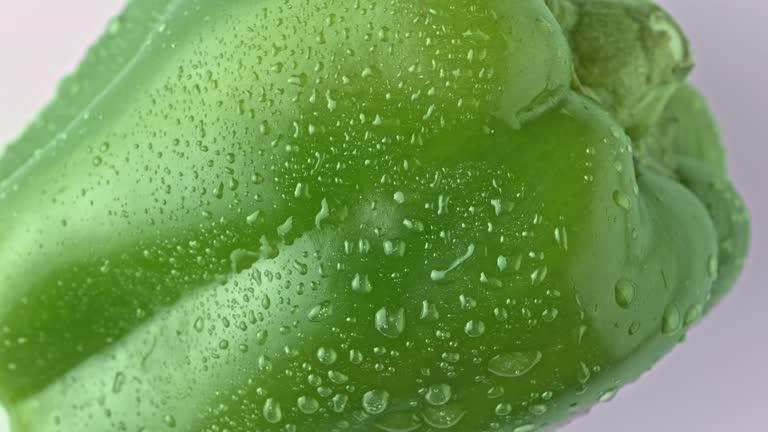Capsicum: (3, 0, 768, 432)
